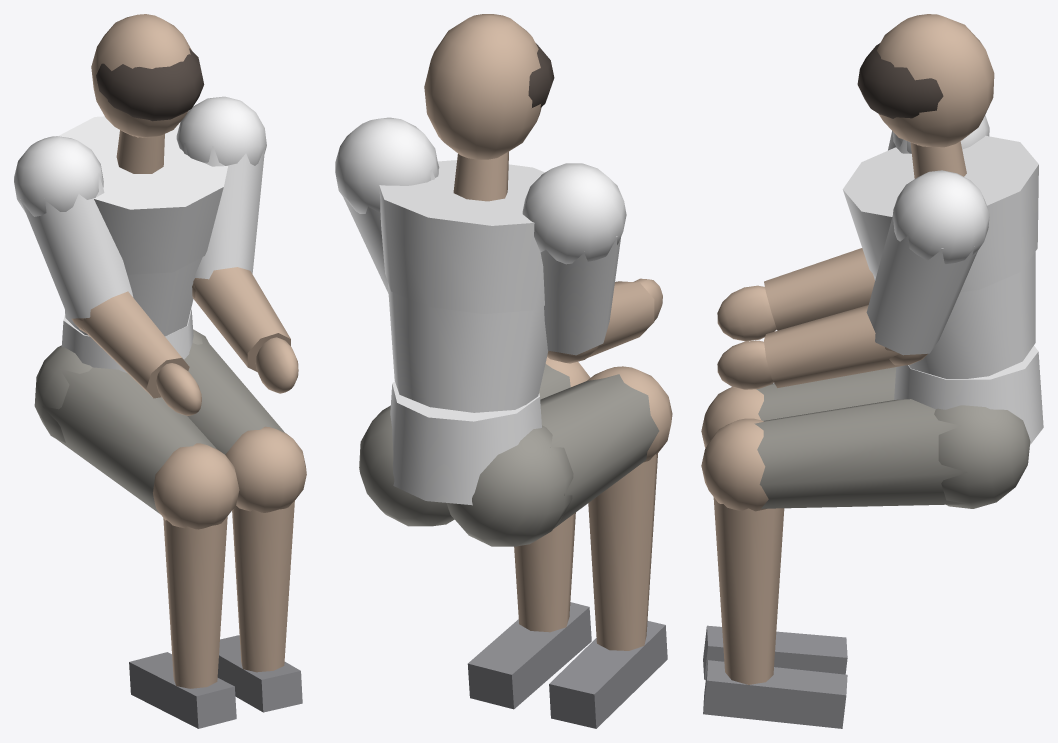
The model's file is crowd_b_sit.glb.
3 views of the same model, side by side, from view 1: azimuth 30°, elevation 25°; view 2: azimuth 150°, elevation 25°; view 3: azimuth 270°, elevation 25° (orthographic). The views are drawn at different scales.
Visible parts, largest first — view 1: crowd_b_body; view 2: crowd_b_body; view 3: crowd_b_body.
Part boxes in pixels (x1,y1,x2,y2): crowd_b_body: [14, 14, 306, 728]; crowd_b_body: [335, 14, 672, 728]; crowd_b_body: [701, 14, 1043, 728].
Size of the model in its own units: 0.521 by 1.31 by 0.5965.
